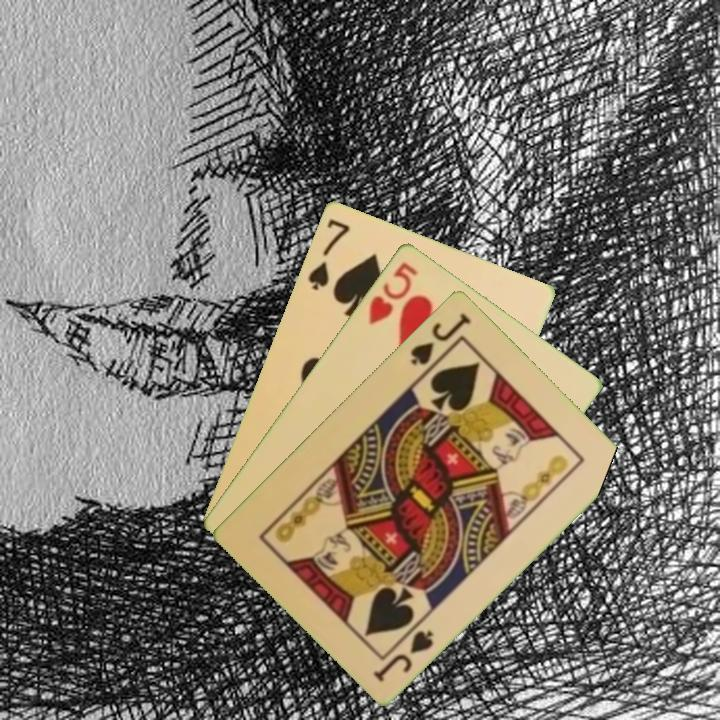5h: (364, 257, 421, 328)
7s: (304, 214, 353, 293)
Js: (369, 617, 437, 684), (406, 308, 474, 368)
